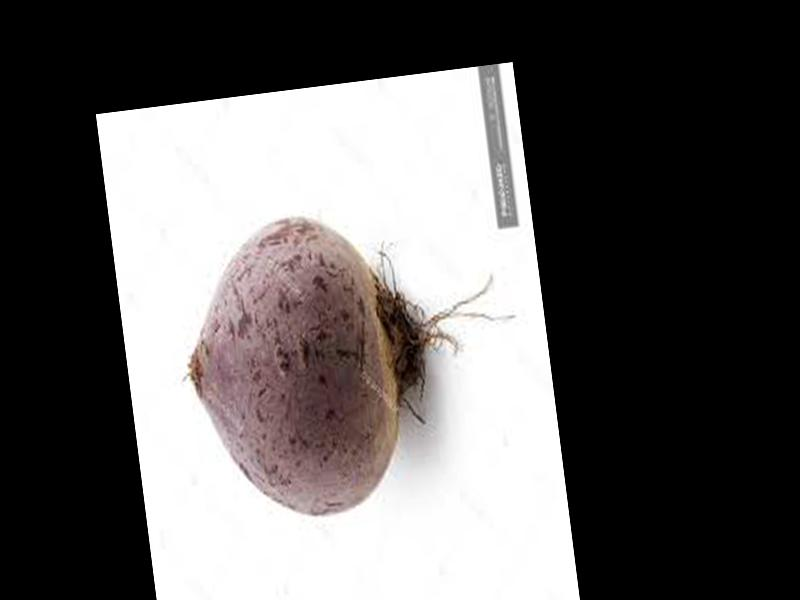Beet: (169, 188, 538, 531)
